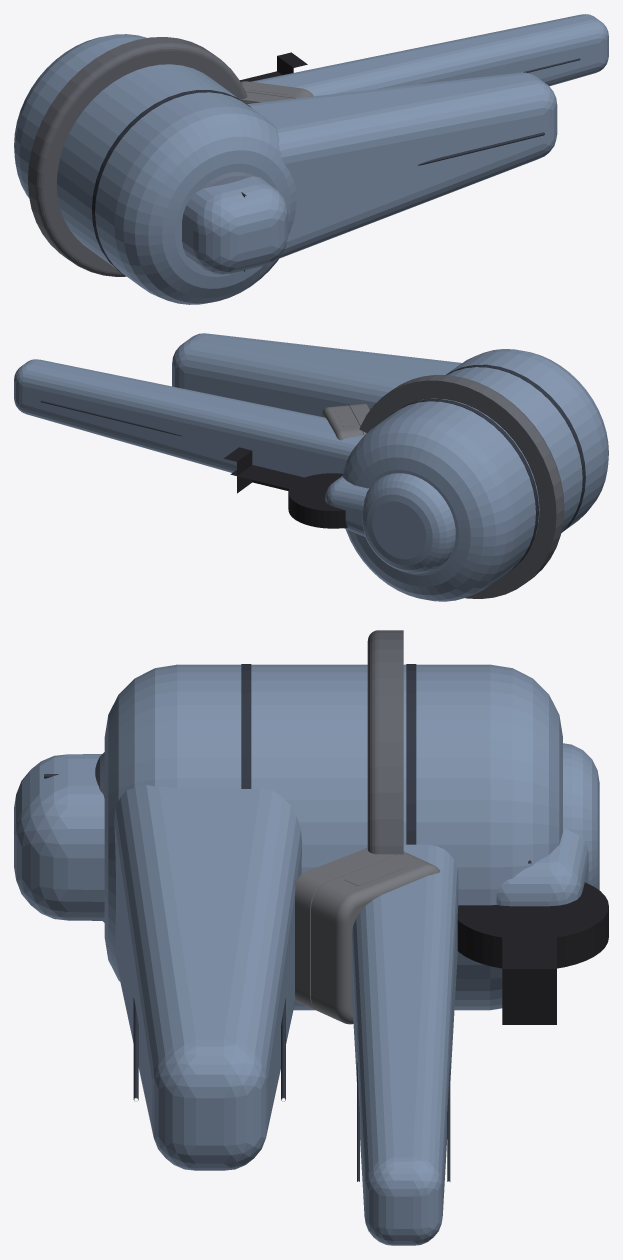
Rendered from arm.glb.
3 renders of one model, top to bottom at view 1: azimuth 30°, elevation 25°; view 2: azimuth 150°, elevation 25°; view 3: azimuth 270°, elevation 25°, orthographic. The views are drawn at different scales.
Visible parts, largest first — view 1: b3, b4, b1, b2, b7, b5; view 2: b3, b4, b5, b1, b7; view 3: b3, b4, b5, b2, b7, b1.
Part boxes in pixels (x1,y1,x2,y2): b3: (14,34,557,304); b4: (251,14,608,96); b1: (28,37,247,276); b2: (182,176,288,274); b7: (241,81,313,103); b5: (240,52,307,81); b3: (172,333,608,601); b4: (14,359,364,477); b5: (224,447,455,573); b1: (359,375,564,598); b7: (322,403,369,440); b3: (95,664,562,1170); b4: (352,844,458,1245); b5: (457,743,608,1024); b2: (14,754,104,920); b7: (295,848,440,1024); b1: (367,630,403,854).
Size of the model in its own units: 0.3203 by 0.1213 by 0.1739.
